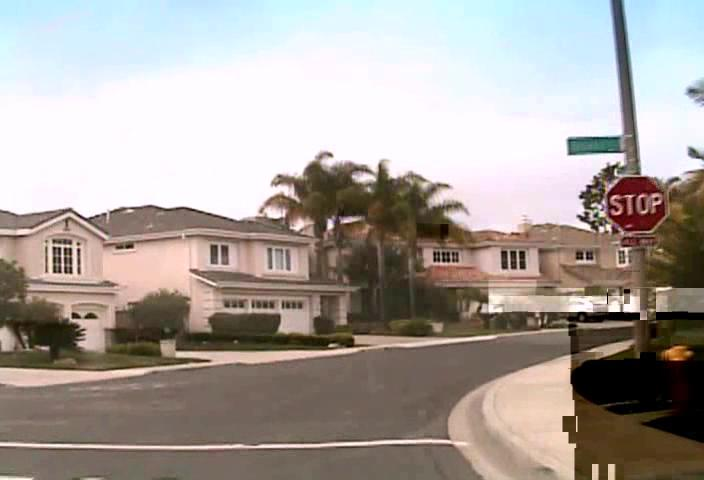stop: (605, 175, 669, 234)
